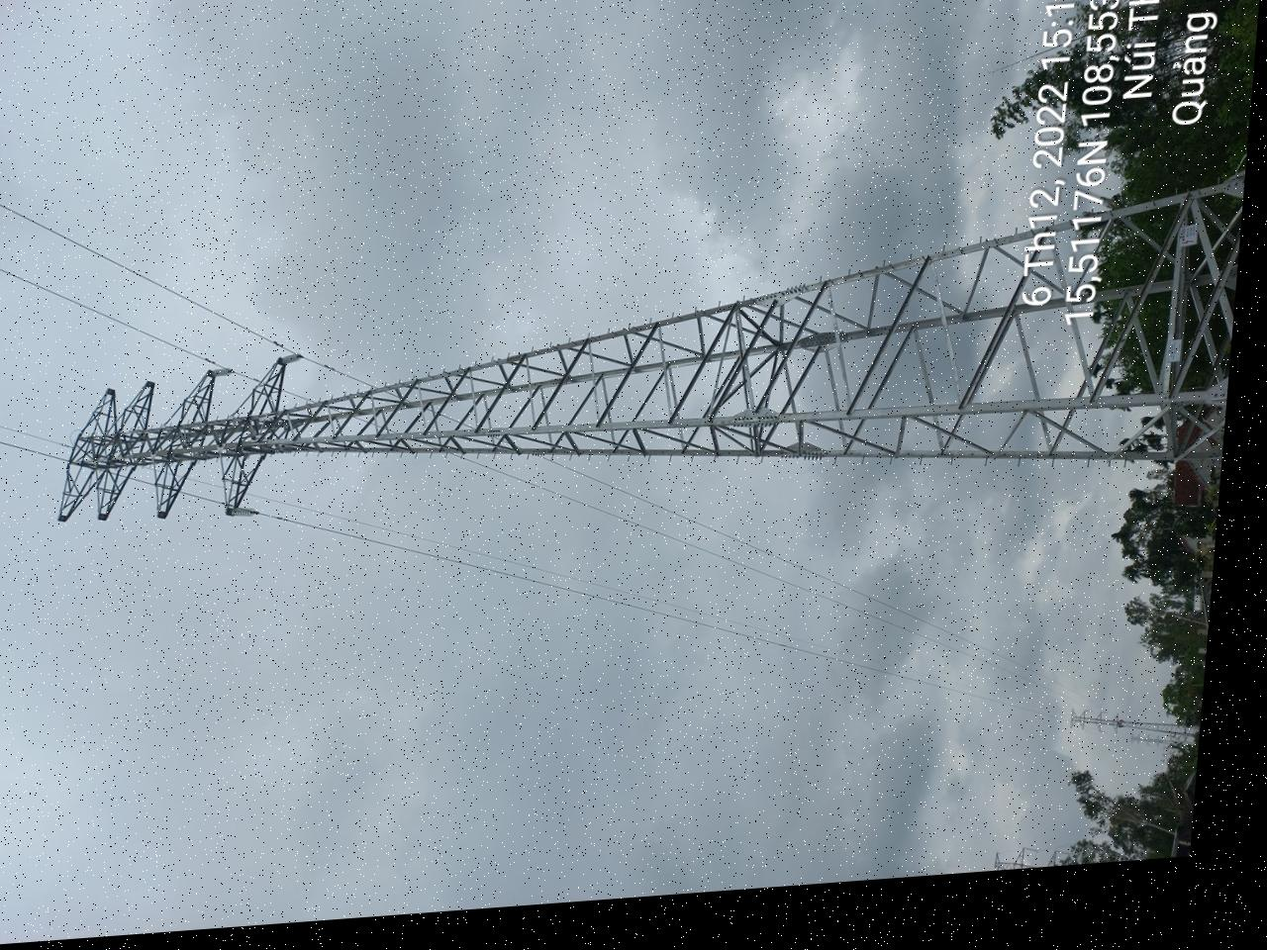tower: (402, 27, 851, 712)
